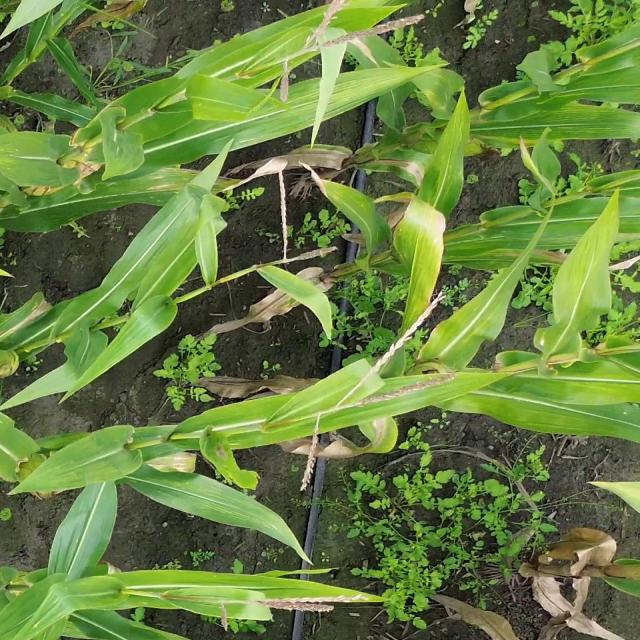gray-leaf-spot: (121, 168, 219, 205), (526, 225, 614, 249), (442, 120, 469, 168)
northern-leaf-blight: (369, 146, 432, 184), (0, 301, 53, 340), (348, 31, 392, 76), (364, 414, 398, 453)
